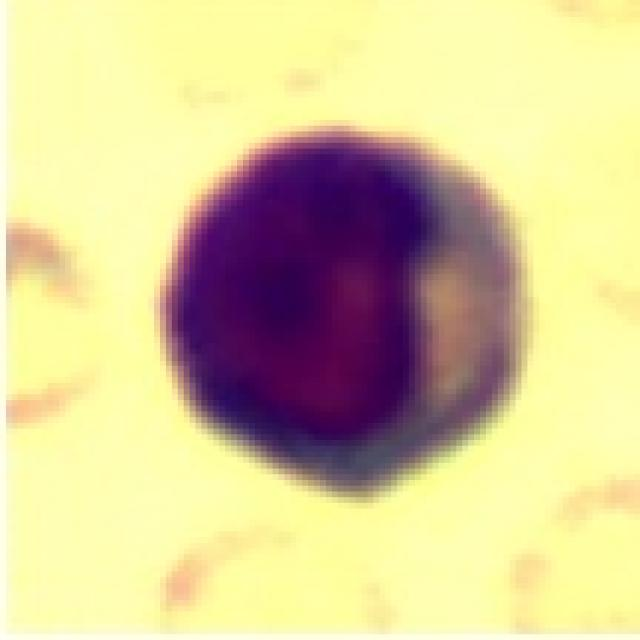WBC: (125, 103, 551, 503)
